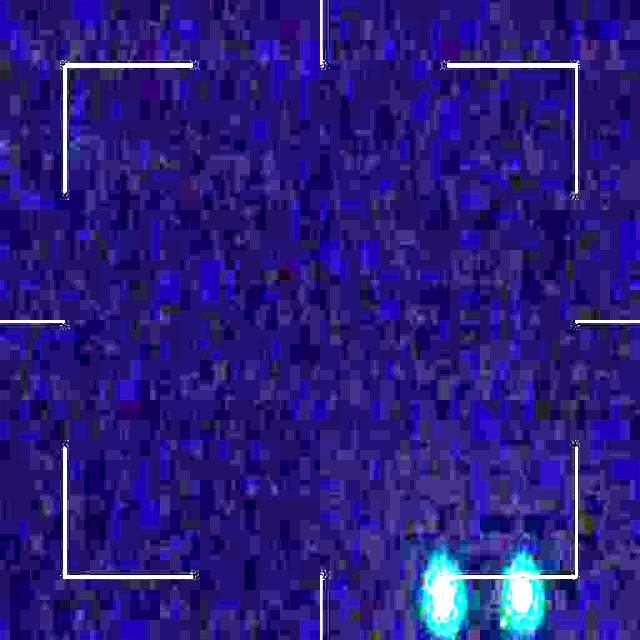bird: (424, 560, 540, 628)
